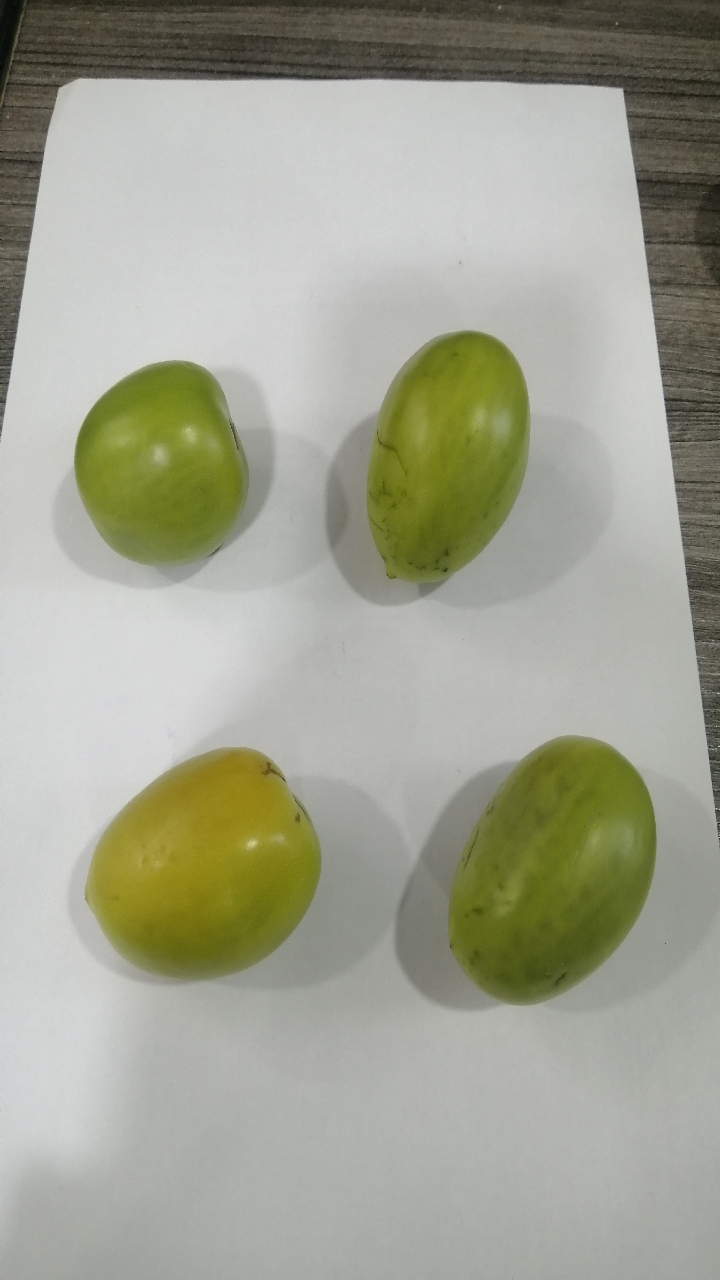tomateVerde: (57, 725, 338, 1012), (421, 715, 671, 1034), (324, 311, 558, 609), (48, 335, 284, 588)
